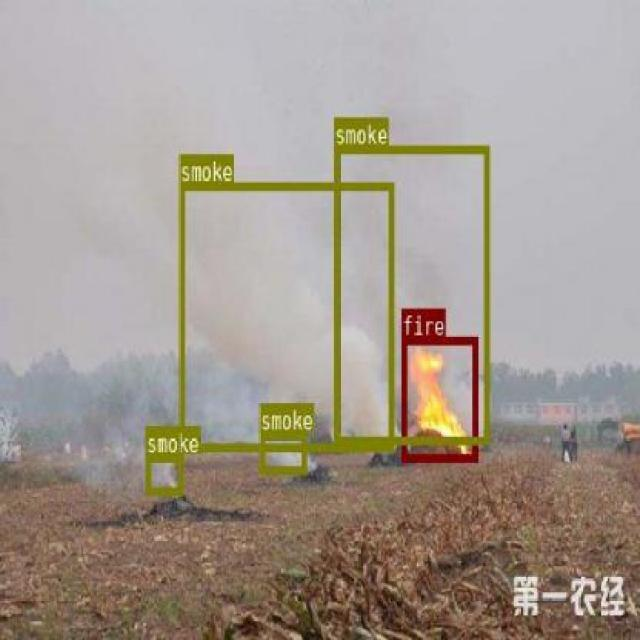fire: (401, 336, 476, 461)
smoke: (178, 181, 394, 450), (334, 144, 488, 444), (258, 430, 306, 473), (144, 453, 182, 493)
